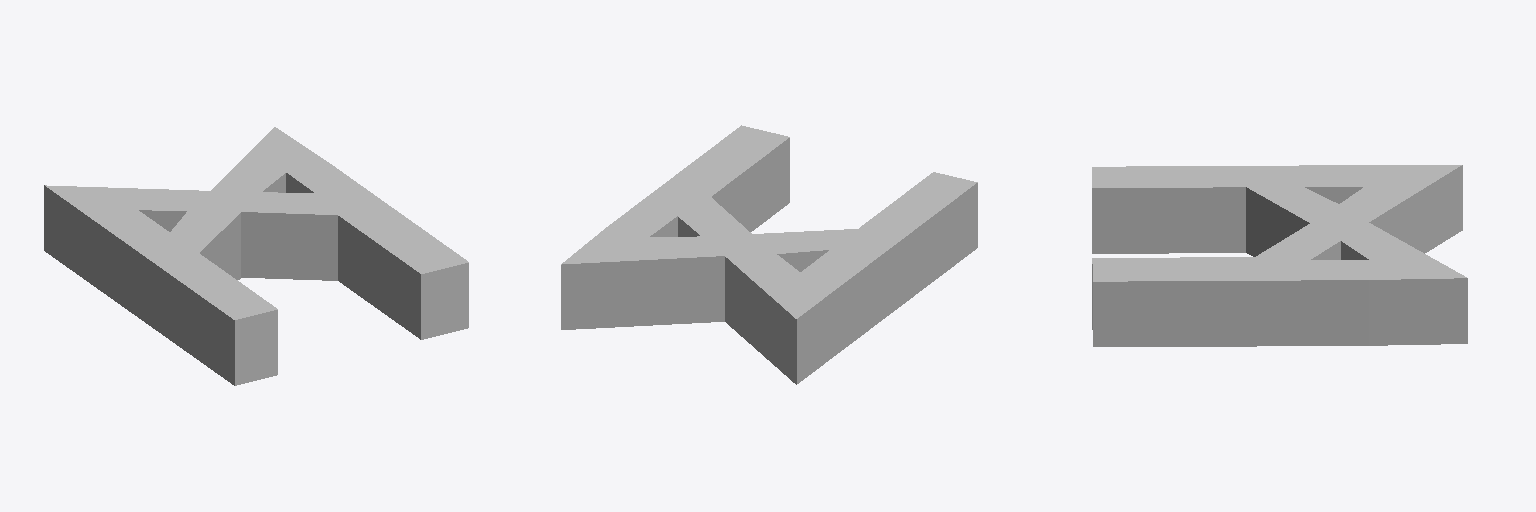
The model's file is Mannaz.obj.
The picture shows the model from 3 angles: view 1: azimuth 30°, elevation 25°; view 2: azimuth 150°, elevation 25°; view 3: azimuth 270°, elevation 25°; orthographic projection.
Parts seen in each view (by area): view 1: Mannaz; view 2: Mannaz; view 3: Mannaz.
Part boxes in pixels (left/top/right/bottom): Mannaz: left=44, top=127, right=468, bottom=385; Mannaz: left=561, top=125, right=977, bottom=384; Mannaz: left=1092, top=165, right=1467, bottom=346.
Size of the model in its own units: 0.3926 by 0.1028 by 0.5339.